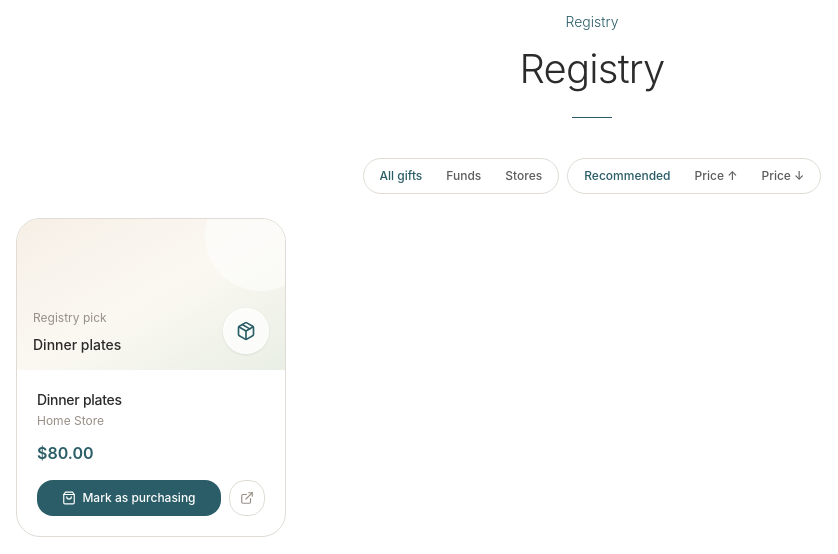
Test: RegistrySection › shows a filter-specific empty state without pretending the whole registry is finished
Expected: the text "Dinner plates" is shown, [33,335,121,354]
Click the button "Funds". click: {"x": 464, "y": 176}
box: [436,163,491,189]
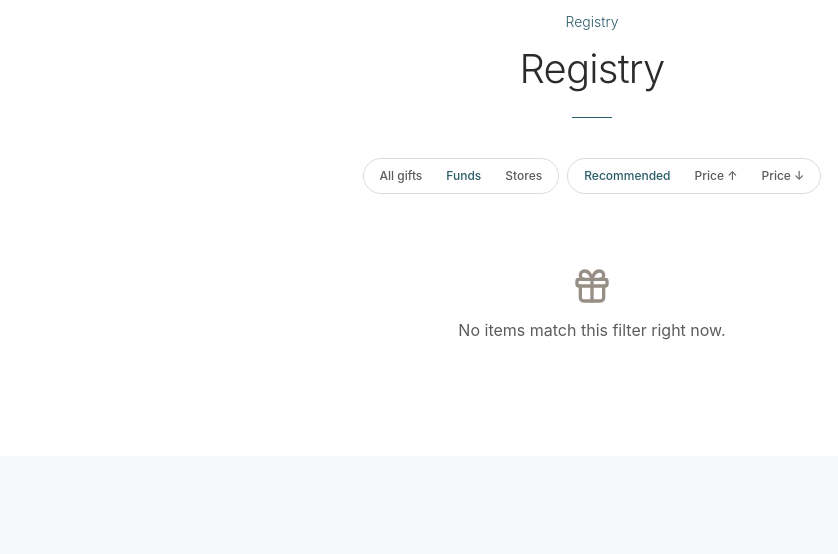
Expected: the text "No items match this filter right now." is shown, [458,320,726,340]
